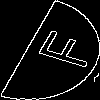F: (24, 25, 100, 71)
